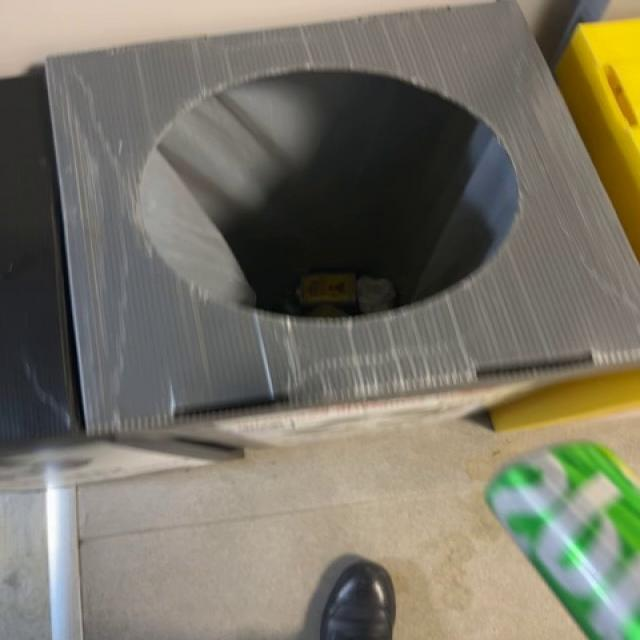bin: (45, 2, 639, 436)
metal: (487, 443, 640, 640)
